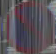No waiting: (3, 2, 55, 49)
